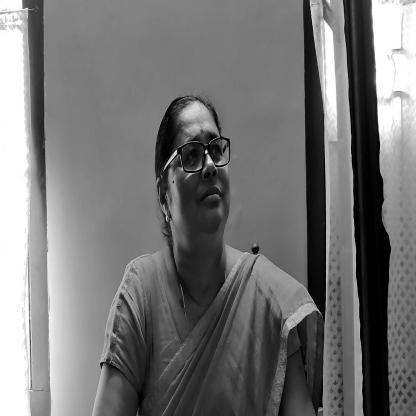Distracted: (168, 87, 238, 260)
